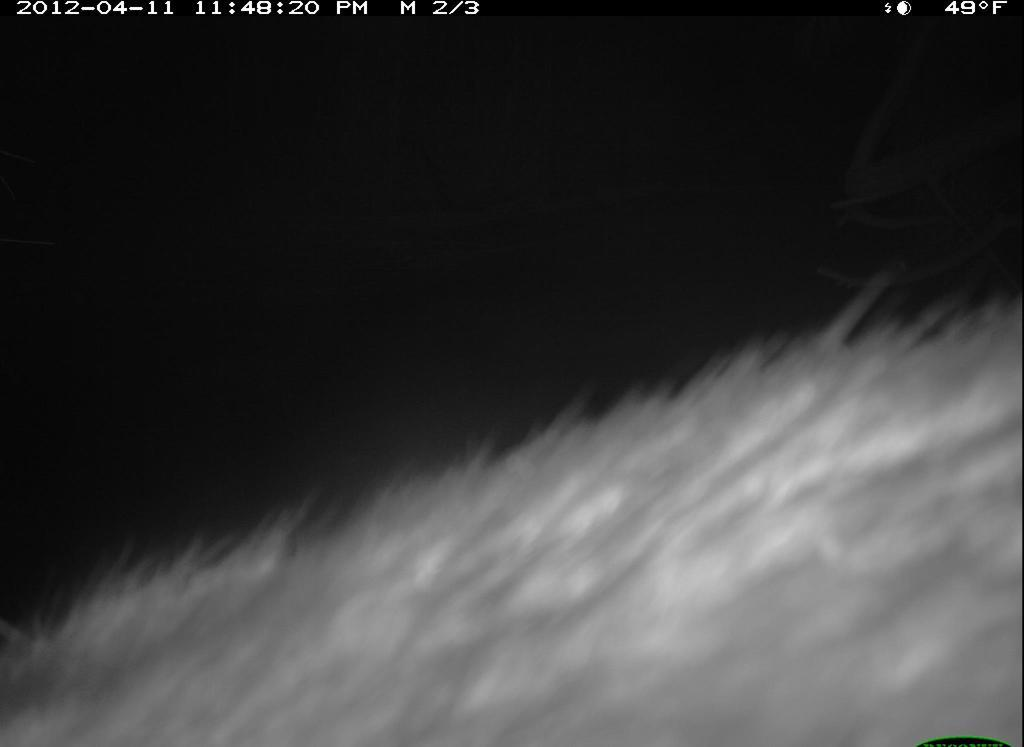raccoon: (15, 285, 1018, 747)
